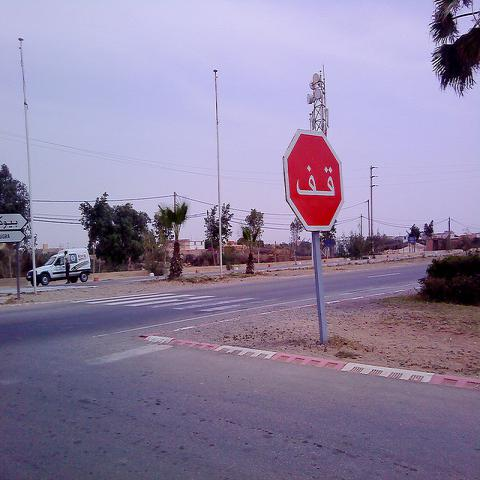truck: (26, 248, 92, 288)
